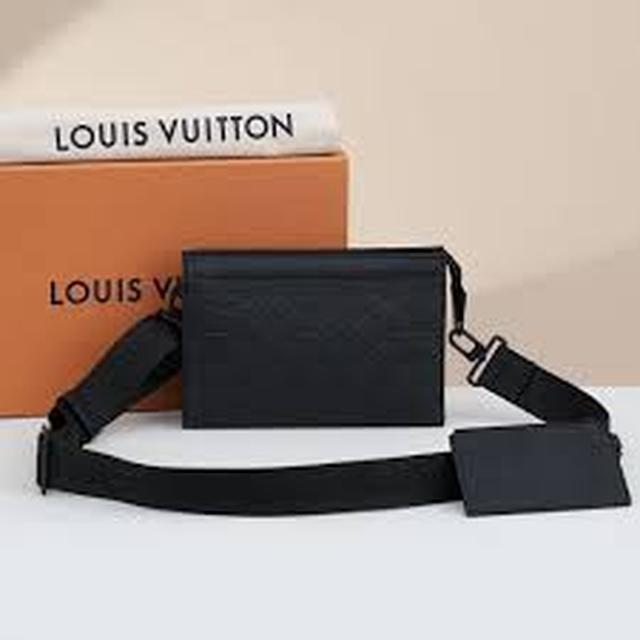box: (0, 122, 356, 434)
wallet: (31, 228, 626, 559)
